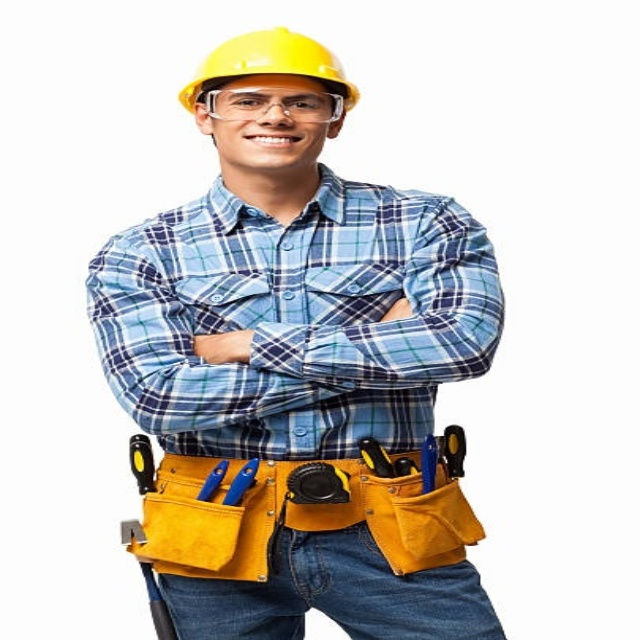Gafas: (203, 90, 347, 123)
Guantes: (360, 444, 485, 576)
Sin_mascara: (237, 130, 310, 163)
